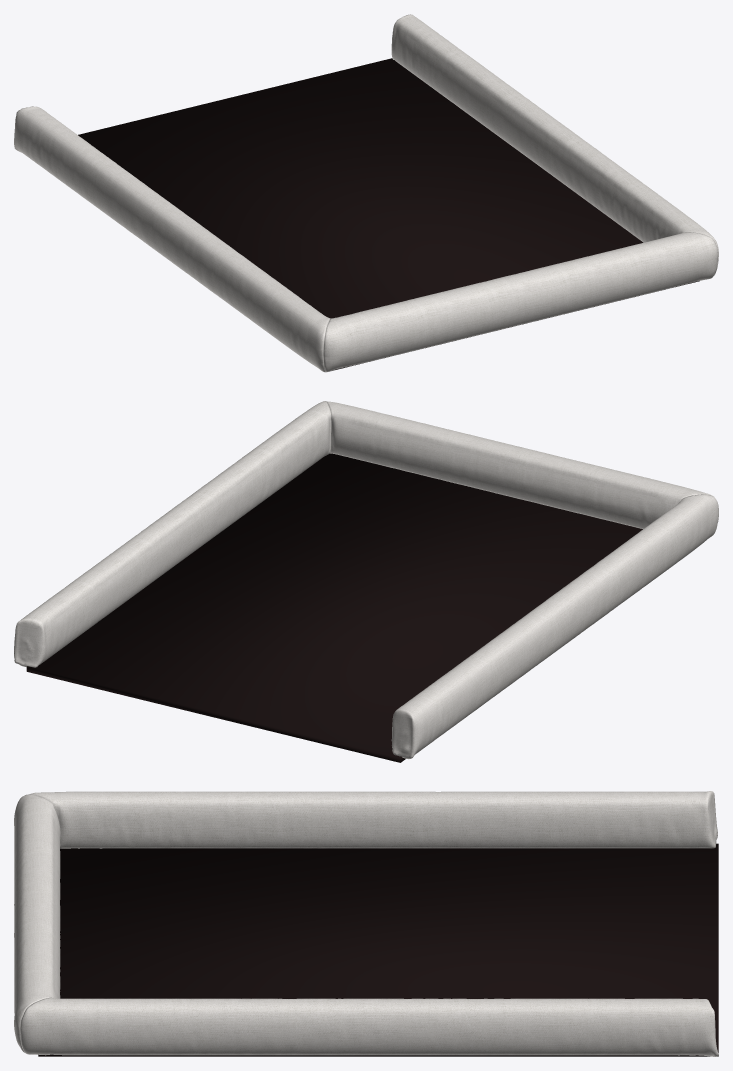
3 views of the same model, one above another, from view 1: azimuth 30°, elevation 25°; view 2: azimuth 150°, elevation 25°; view 3: azimuth 270°, elevation 25° (orthographic). The views are drawn at different scales.
Parts seen in each view (by area): view 1: legs, base.001; view 2: legs, base.001; view 3: legs, base.001.
Part boxes in pixels (x1,y1,x2,y2): legs: (78, 58, 699, 370); base.001: (14, 14, 718, 372); legs: (26, 453, 642, 762); base.001: (14, 401, 718, 759); legs: (38, 843, 718, 1056); base.001: (14, 791, 718, 1056).
Size of the model in its own units: 1.63 by 0.189 by 2.16.
2 materials, 1 textured.
